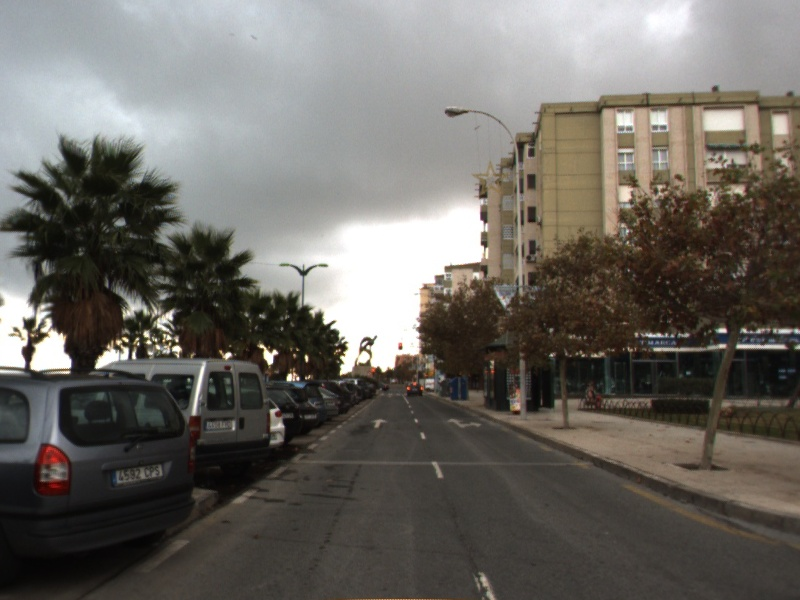STRAIGHT: (368, 417, 390, 430)
STRAIGHT_RIGHT: (445, 416, 484, 430)
